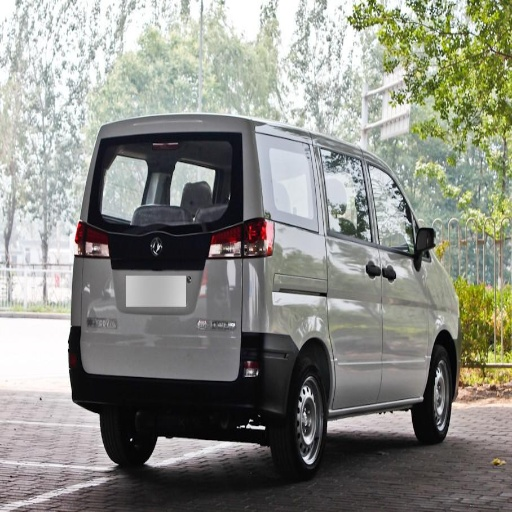back_bumper: (79, 346, 268, 413)
back_right_door: (258, 131, 379, 406)
tailgate: (86, 223, 229, 273)
trunk: (80, 227, 260, 380), (260, 280, 324, 411)
